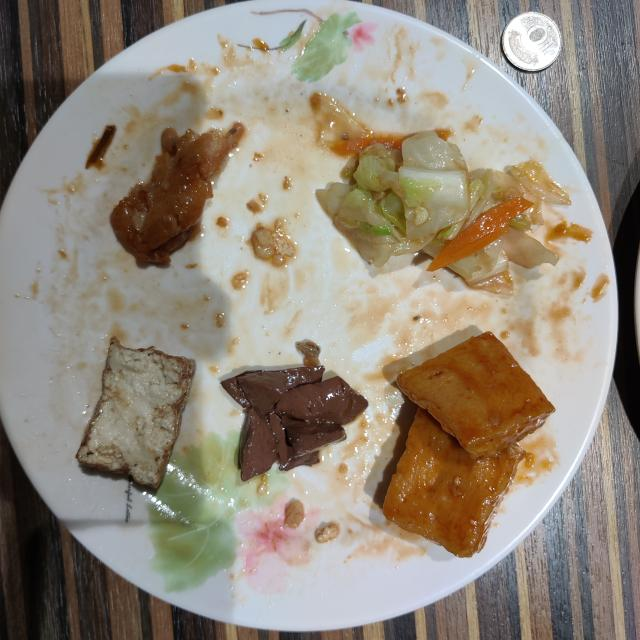Kabayaki sea bream fillet: (110, 122, 245, 264)
cabbage: (316, 131, 570, 294)
coin: (501, 12, 561, 71)
creamy tofu: (384, 332, 554, 558)
egg tofu: (76, 336, 195, 489)
pig blood curd: (222, 366, 368, 480)
